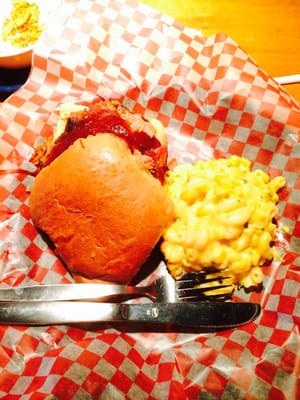burger: (0, 273, 262, 329), (2, 299, 262, 331)
